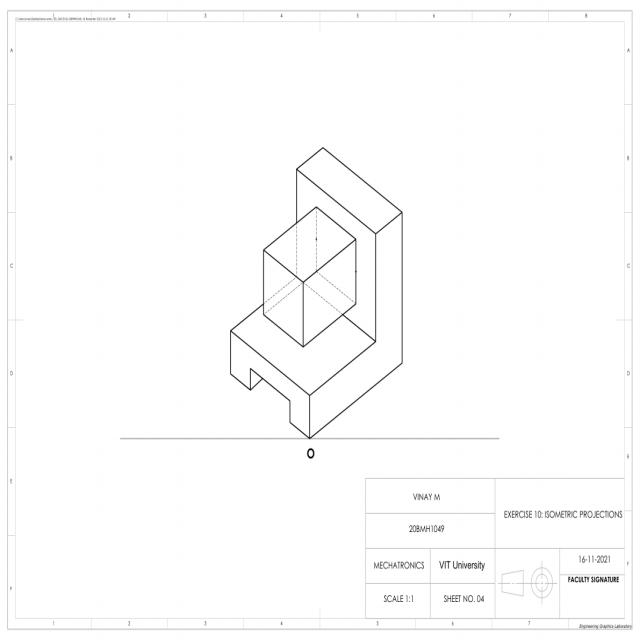Drawings: (219, 142, 416, 438)
